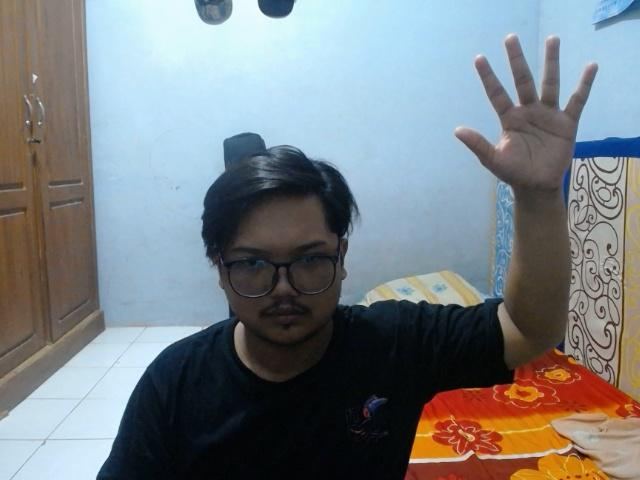Release: (449, 24, 604, 194)
